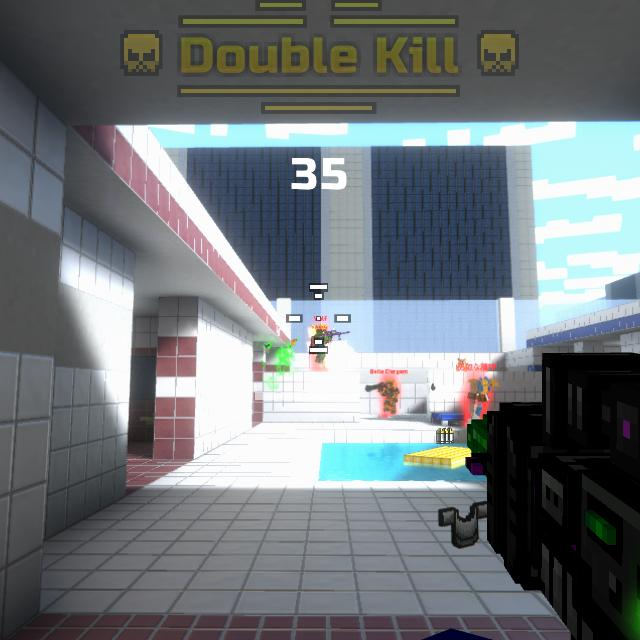Enemy: (466, 377, 488, 418), (310, 326, 331, 366), (379, 378, 400, 413)
